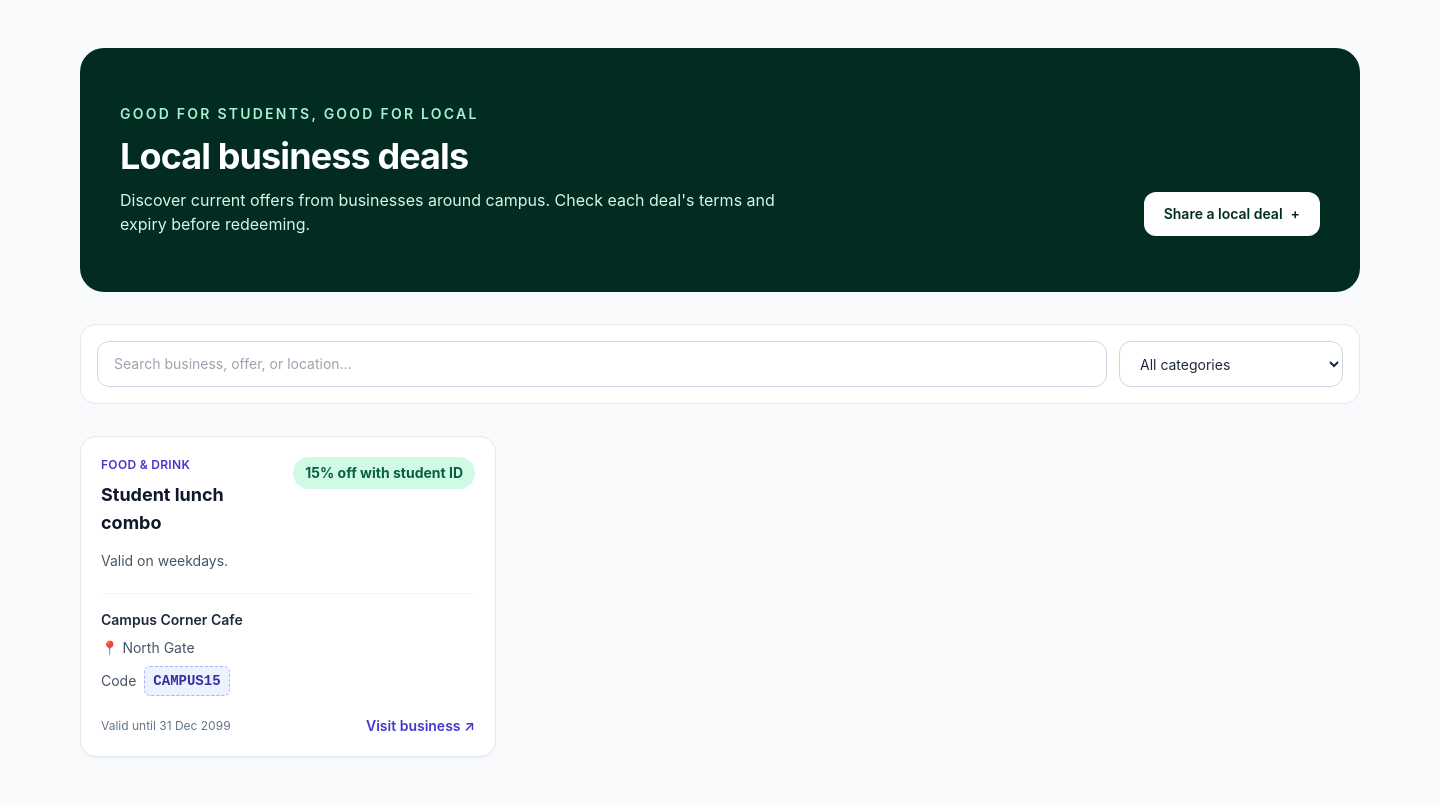
Local business deals › displays active deal details and supports deal search
Expected: the heading "Student lunch combo" is shown, [101,484,224,533]
Expected: the text "Campus Corner Cafe" is shown, [101,611,243,628]
Type "North Gate" into the search field named "Search local deals" at (602, 364), box [97,341,1107,387]
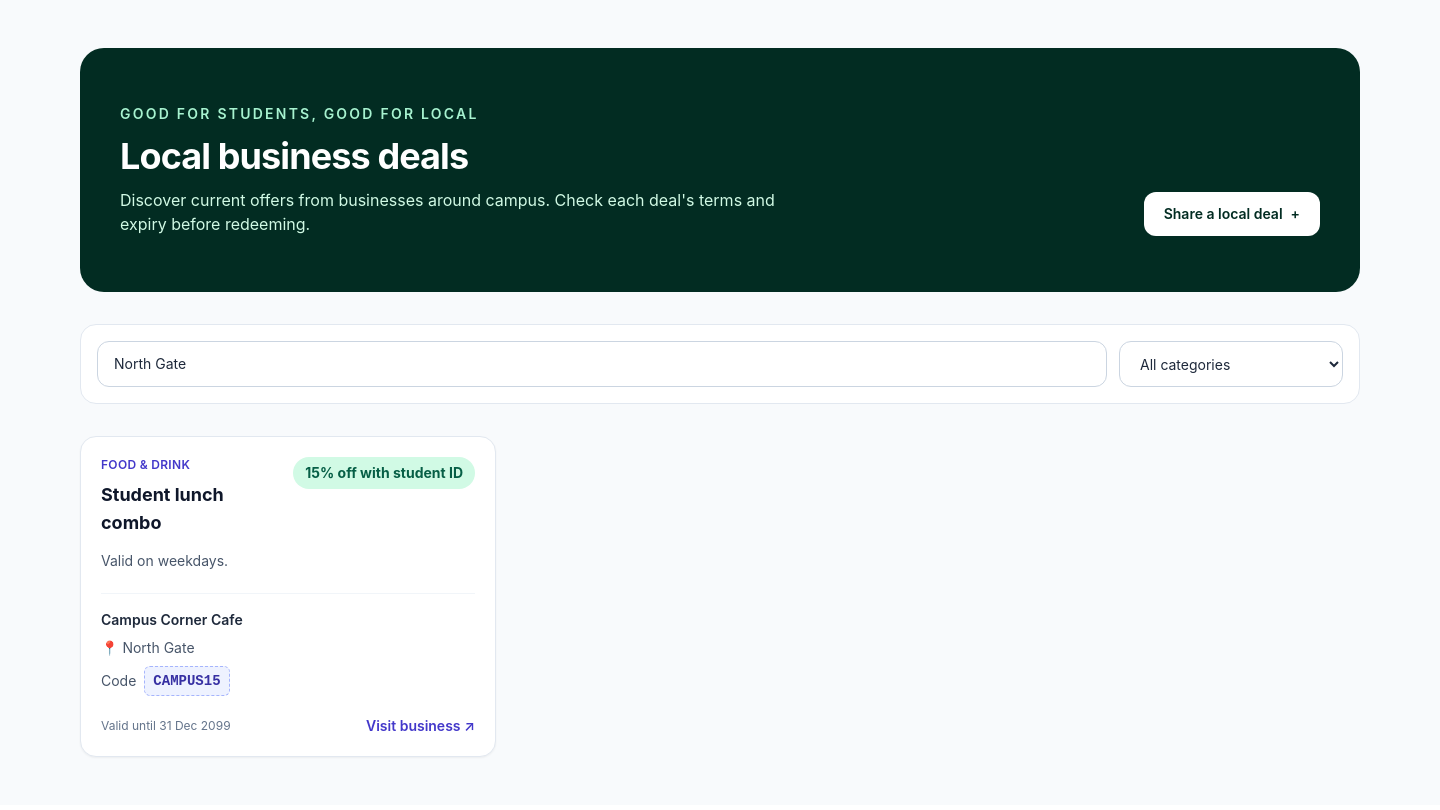
Expected: the heading "Student lunch combo" is shown, [101,484,224,533]
Replace the text in the search field named "Search local deals" with "not present" at (602, 364), box [97,341,1107,387]
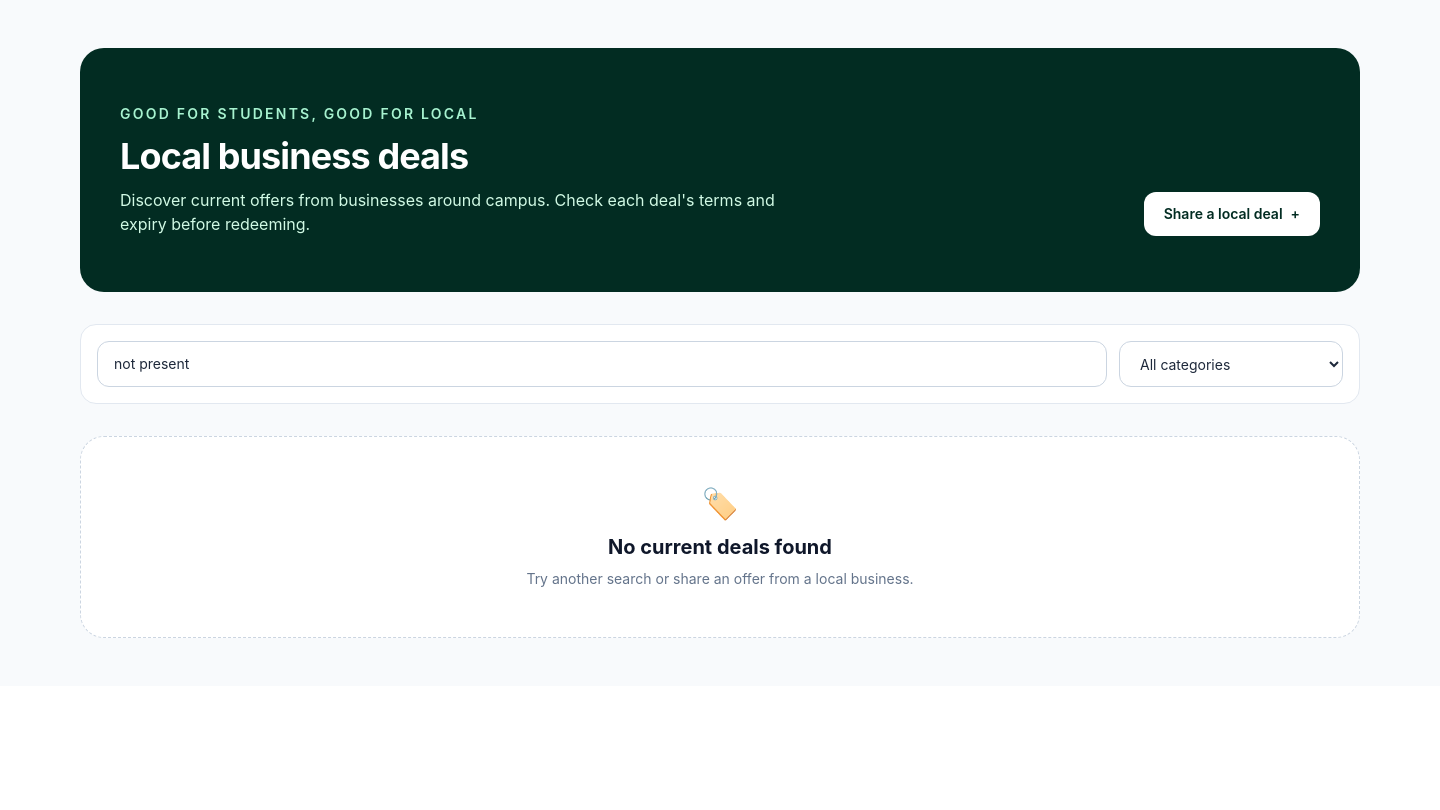
Now the heading "No current deals found" is shown, box [608,535,832,559]
